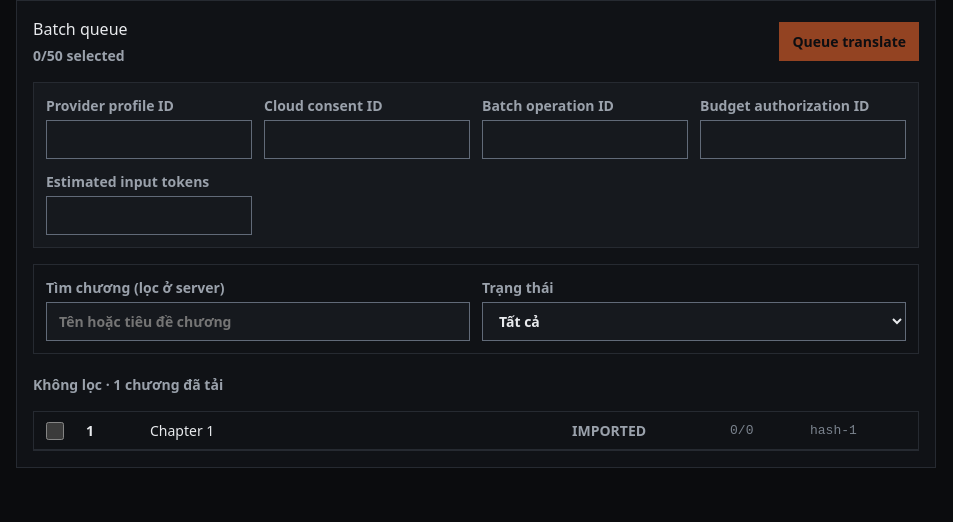
BatchQueue (giữ hành vi cũ) › guard IDs: thiếu cloud authorization chặn enqueue và không gọi /api/batches
Step 1. Click the checkbox → (55, 430), box [46, 422, 64, 440]
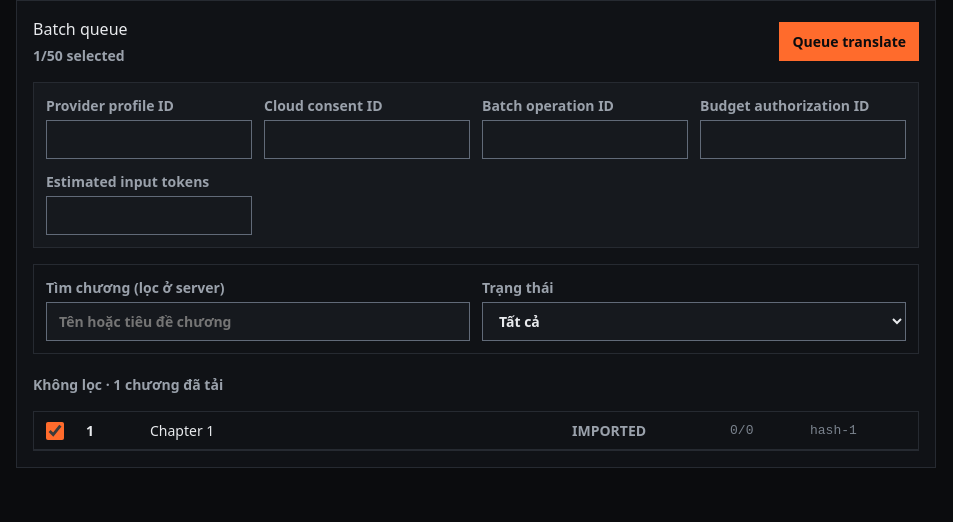
Step 2. Click the button "Queue translate" → (849, 42), box [779, 22, 919, 61]
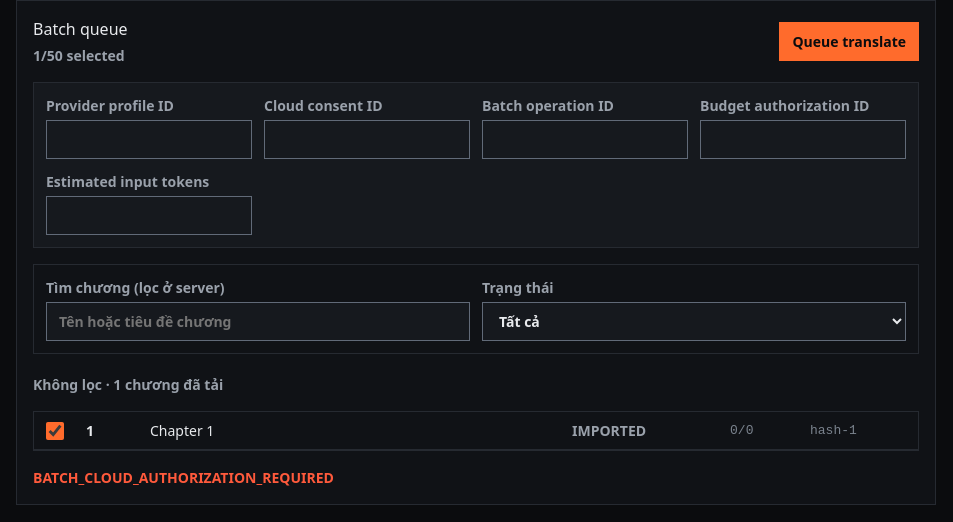
Expected: the message "BATCH_CLOUD_AUTHORIZATION_REQUIRED" is shown, [33, 468, 334, 487]
